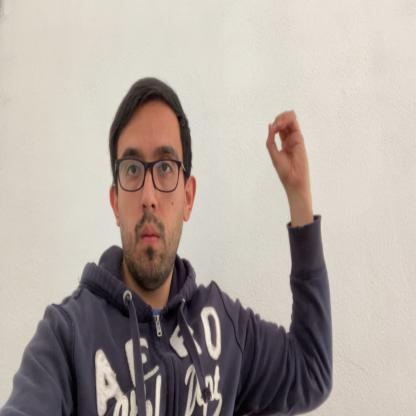O: (266, 108, 308, 188)
